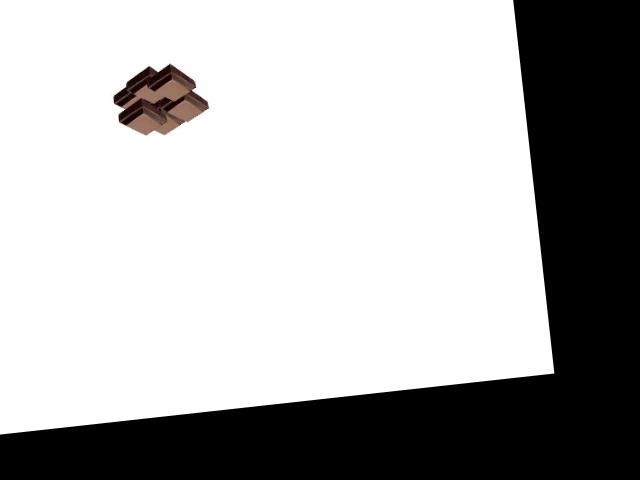chocolate: (107, 63, 210, 143)
